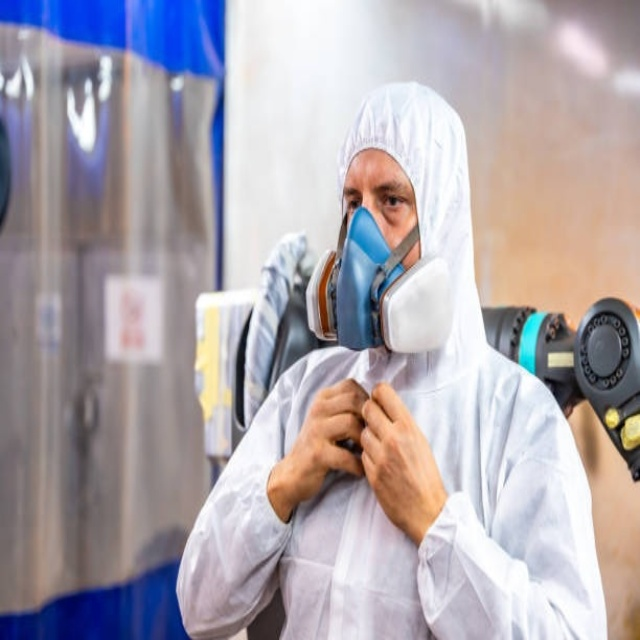Mascara: (306, 209, 450, 355)
Sin_gafas: (342, 180, 416, 223)
Sin_guantes: (353, 382, 445, 544), (290, 378, 370, 502)
